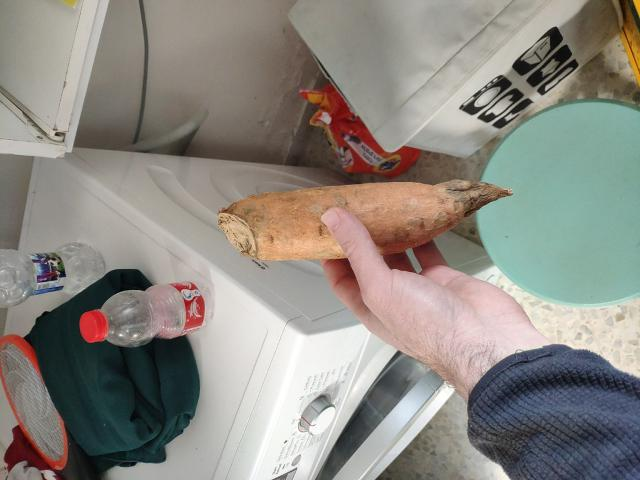sweet_potato: (221, 184, 495, 265)
